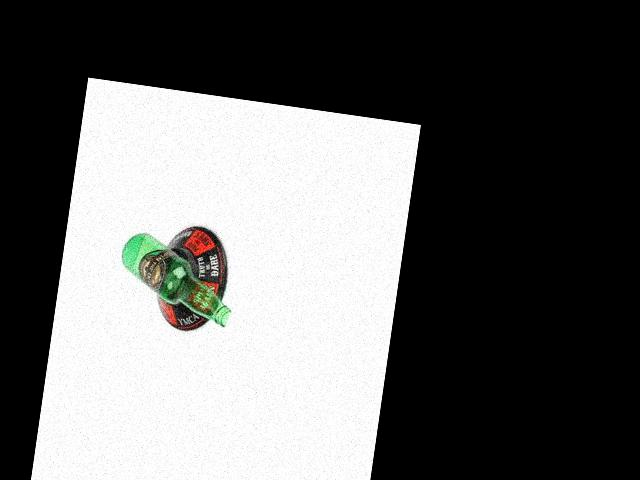beer: (114, 229, 240, 327)
